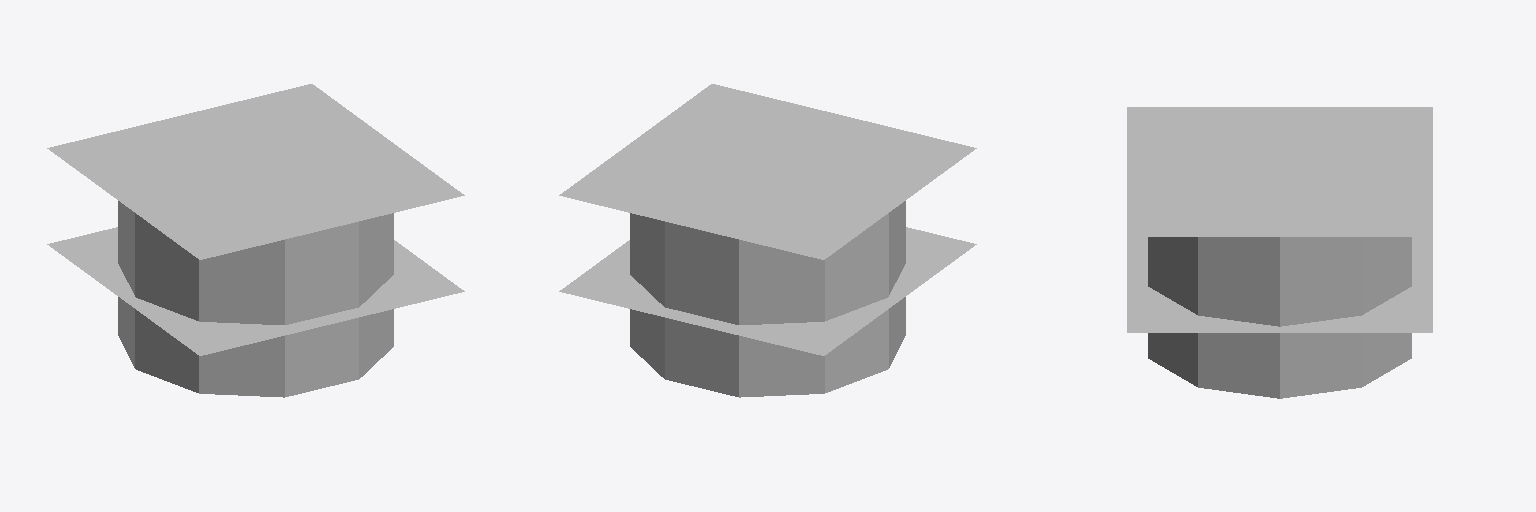
Rendered from Chao Garden.obj.
The picture shows the model from 3 angles: view 1: azimuth 30°, elevation 25°; view 2: azimuth 150°, elevation 25°; view 3: azimuth 270°, elevation 25°; orthographic projection.
Visible parts, largest first — view 1: Mesh_0139; view 2: Mesh_0139; view 3: Mesh_0139.
Boxes of the visible parts, x1,y1,x2,y2 form: Mesh_0139: [47, 84, 464, 397]; Mesh_0139: [559, 84, 976, 397]; Mesh_0139: [1127, 107, 1432, 398].
Size of the model in its own units: 1255 by 760 by 1255.